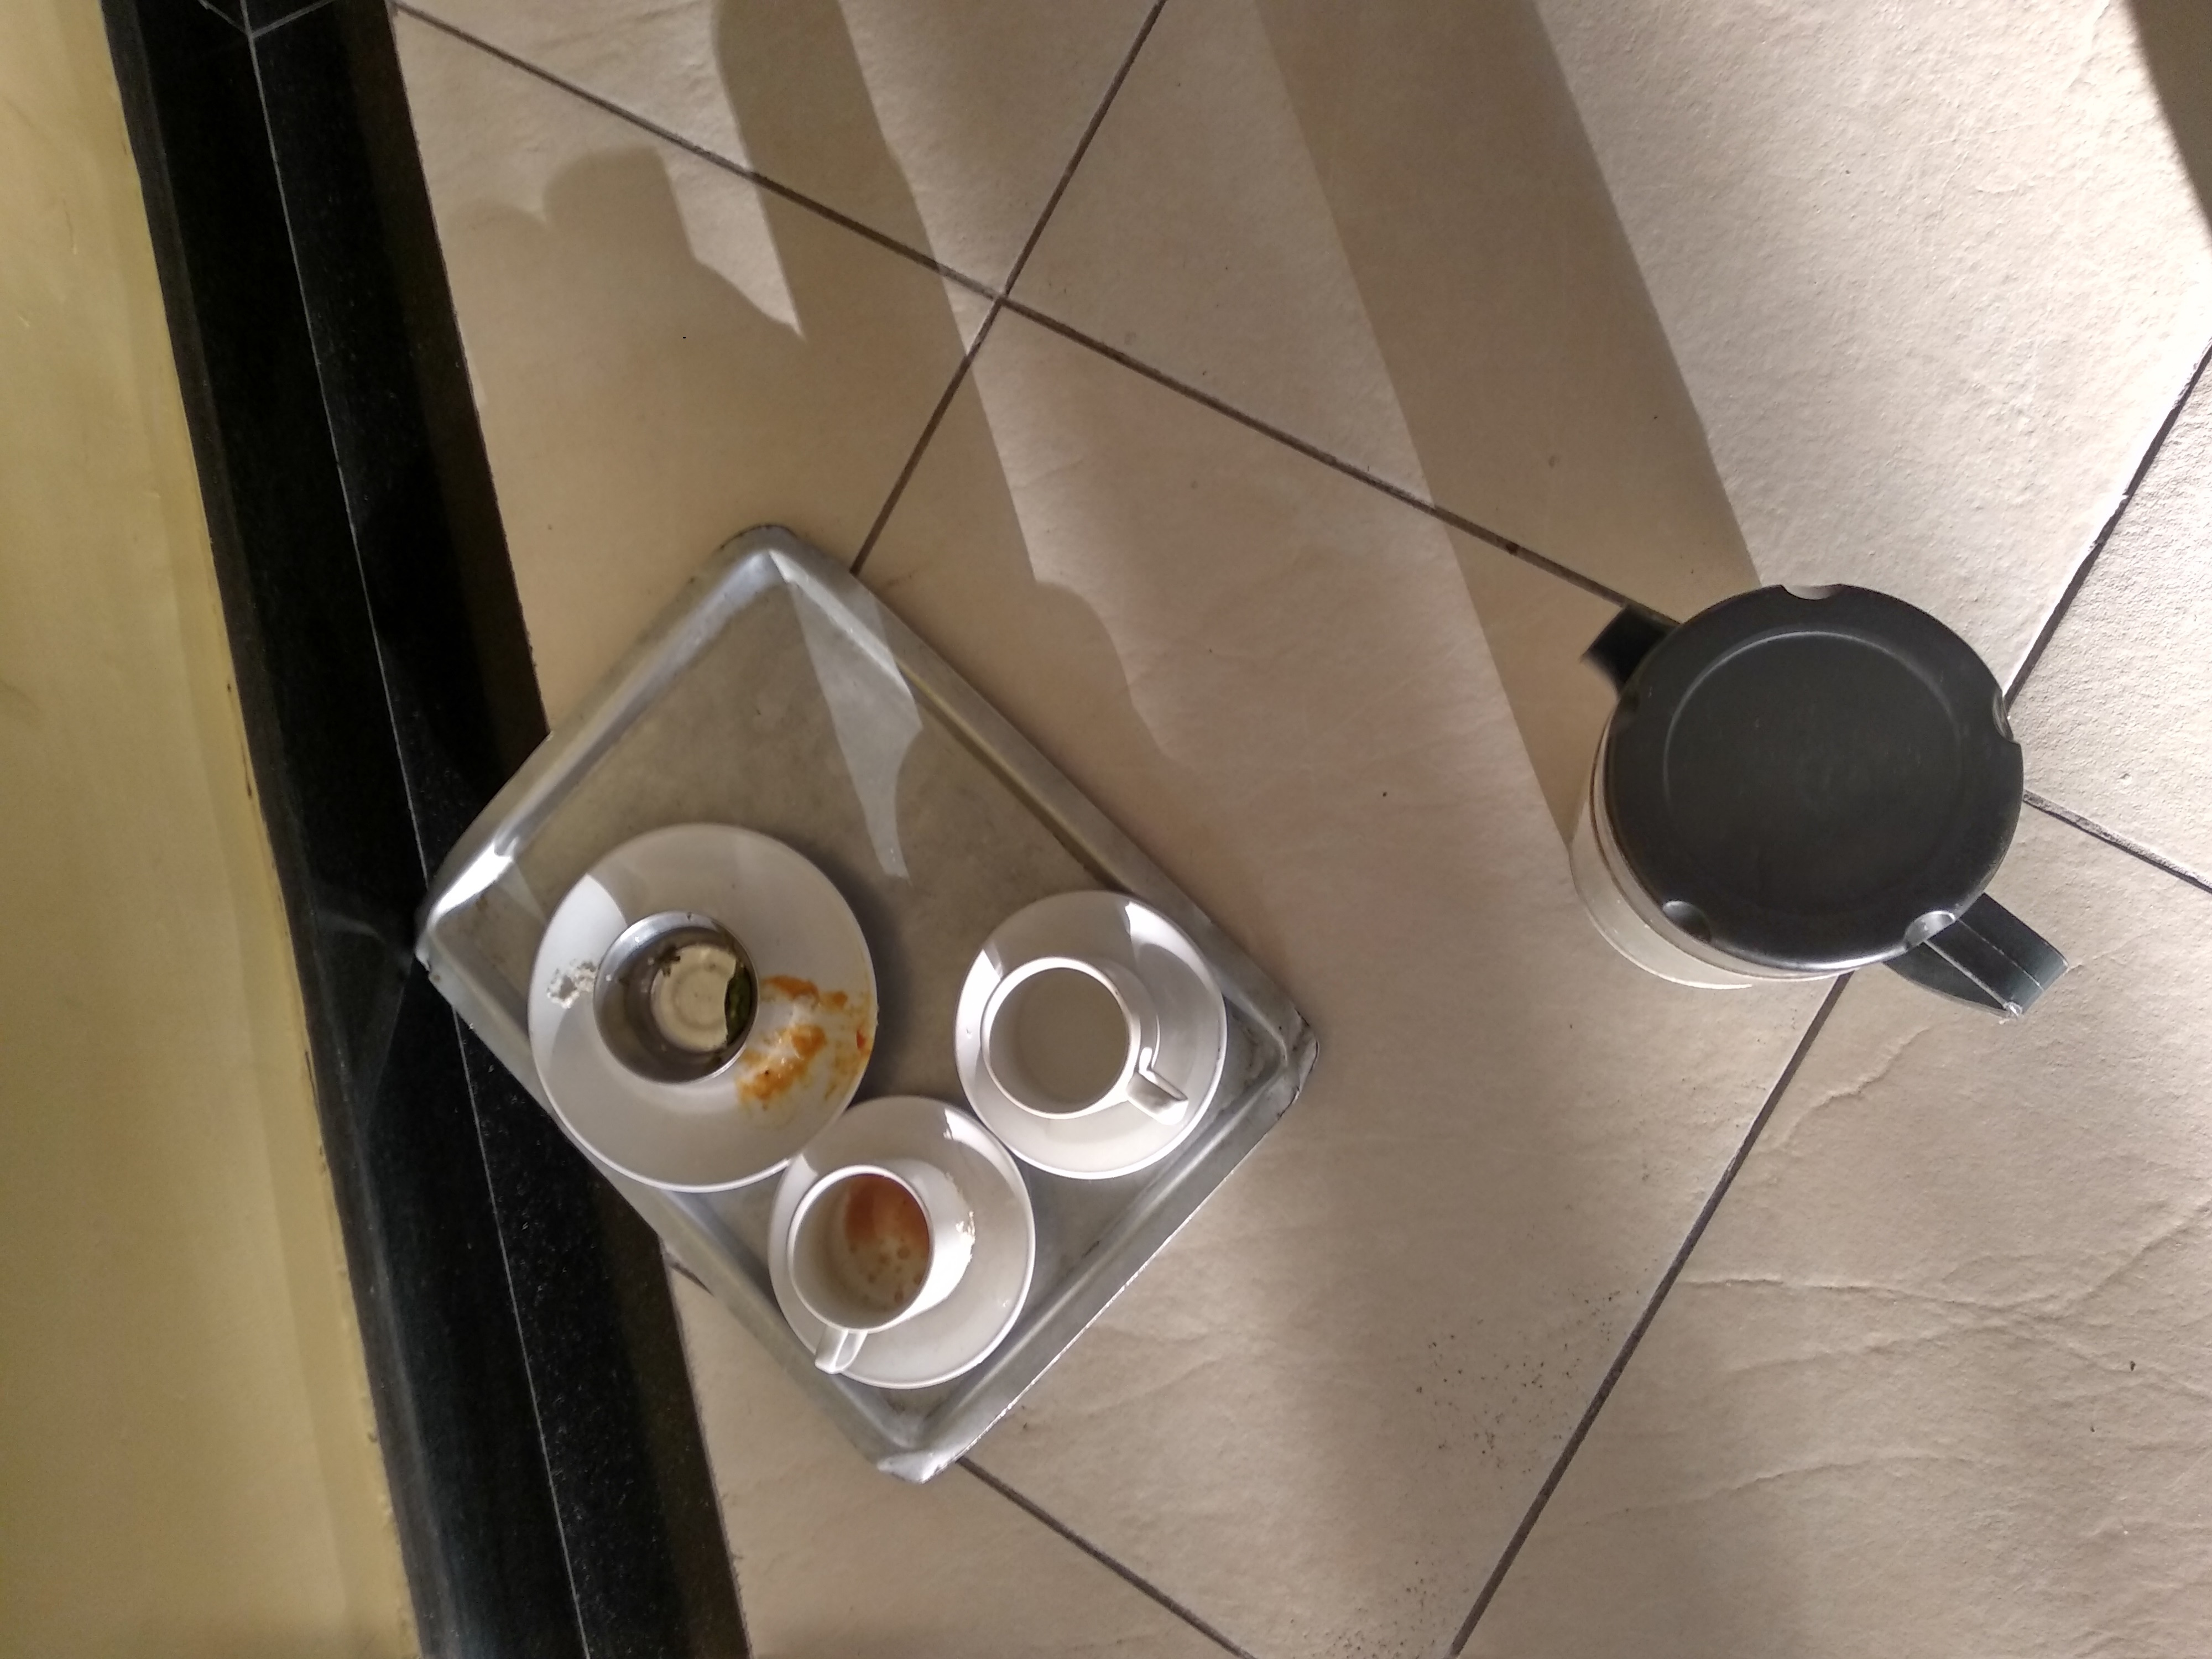CUP: (763, 1161, 972, 1375), (961, 953, 1176, 1122), (594, 910, 768, 1082)
JUG: (1573, 568, 2066, 1035)
